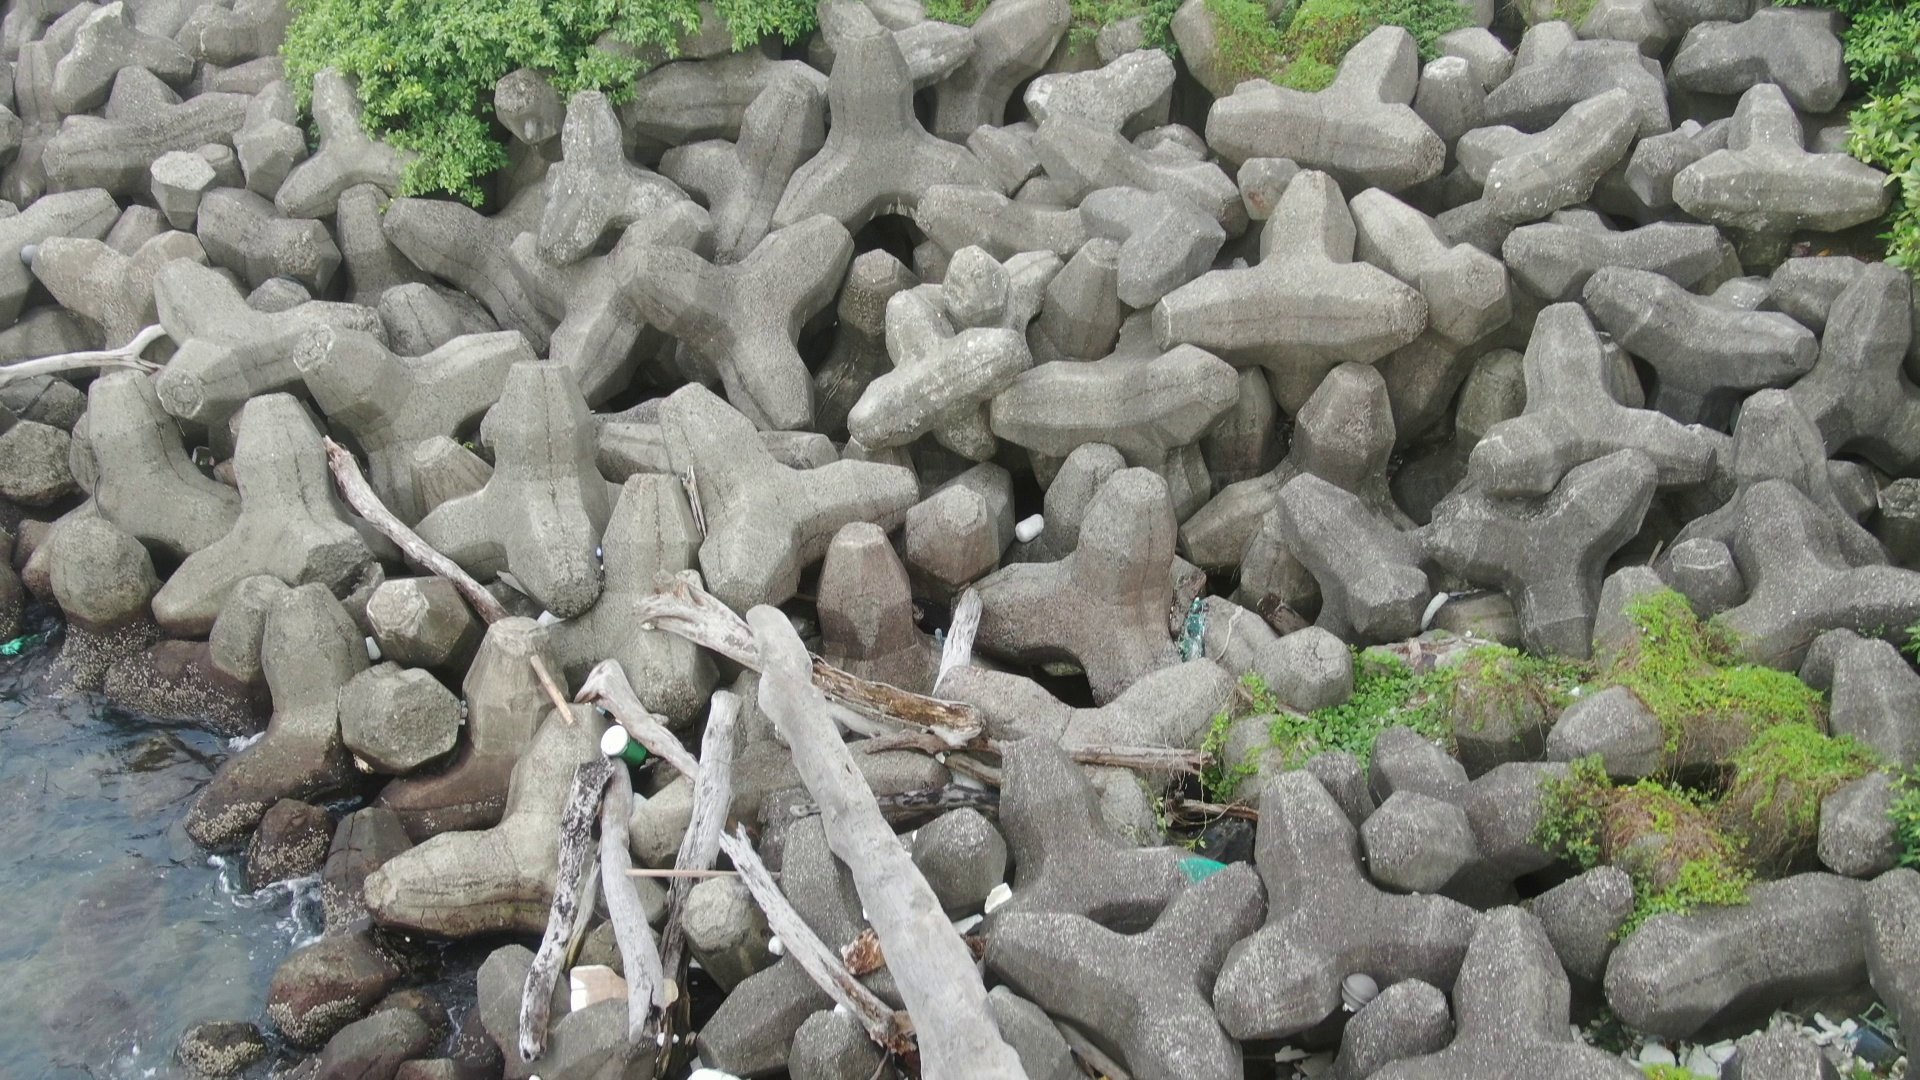garbage: (1625, 1000, 1905, 1080), (1168, 588, 1218, 674), (1412, 585, 1491, 636), (596, 715, 661, 770), (1, 618, 70, 659), (1337, 969, 1385, 1017), (1009, 504, 1059, 549), (1247, 1038, 1317, 1060)
